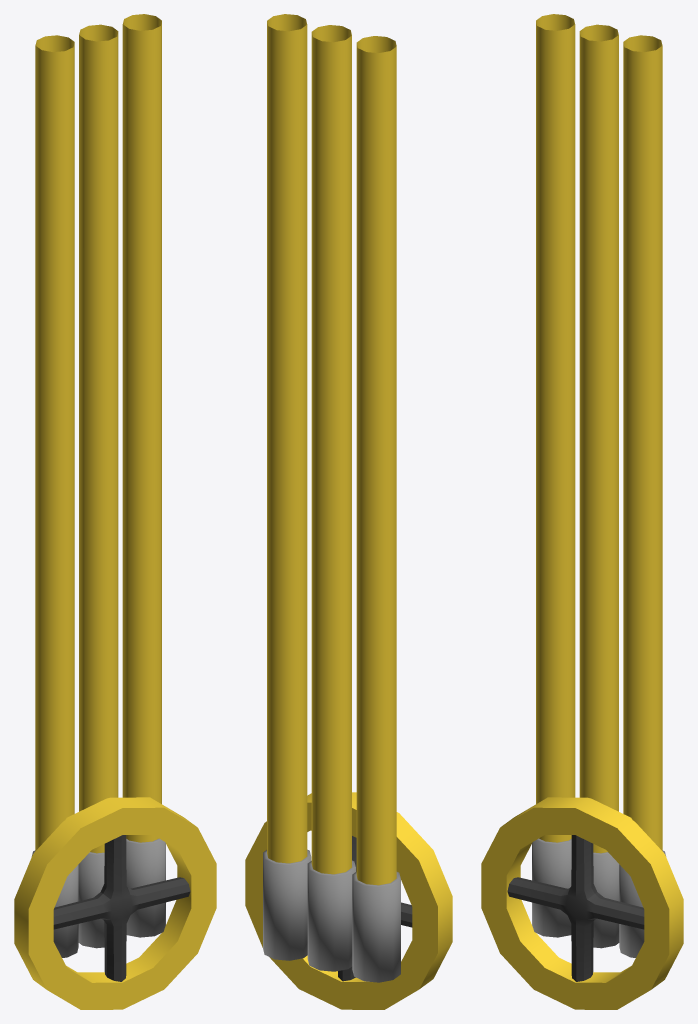
Rendered from Pipes.fbx.
3 renders of one model, left to right at view 1: azimuth 30°, elevation 25°; view 2: azimuth 150°, elevation 25°; view 3: azimuth 330°, elevation 25°, orthographic. The views are drawn at different scales.
Parts seen in each view (by area): view 1: Pipes length, Valve, Metal strip; view 2: Pipes length, Metal strip, Valve; view 3: Pipes length, Valve, Metal strip.
Boxes of the visible parts, bbox=[...] form: Pipes length: bbox=[35, 14, 161, 853]; Valve: bbox=[14, 797, 216, 1009]; Metal strip: bbox=[31, 838, 165, 957]; Pipes length: bbox=[267, 14, 396, 885]; Metal strip: bbox=[263, 849, 400, 982]; Valve: bbox=[245, 792, 452, 1009]; Pipes length: bbox=[536, 14, 662, 853]; Valve: bbox=[481, 797, 683, 1009]; Metal strip: bbox=[532, 838, 666, 957].
Size of the model in its own units: 91.67 by 447 by 30.26.
